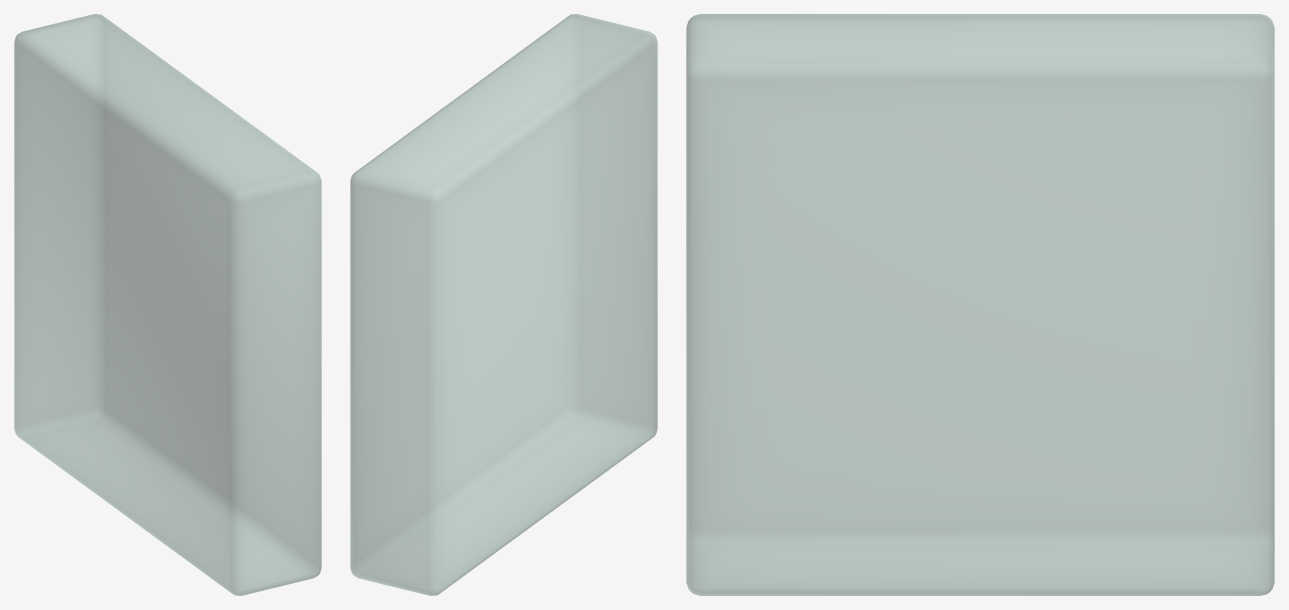
Rendered from frostedglass.glb.
The picture shows the model from 3 angles, left to right: view 1: azimuth 30°, elevation 25°; view 2: azimuth 150°, elevation 25°; view 3: azimuth 270°, elevation 25°; orthographic projection. The views are drawn at different scales.
Parts seen in each view (by area): view 1: Frosted_Glass; view 2: Frosted_Glass; view 3: Frosted_Glass.
Part boxes in pixels (x1,y1,x2,y2): Frosted_Glass: [14, 14, 321, 595]; Frosted_Glass: [350, 14, 657, 595]; Frosted_Glass: [686, 14, 1274, 595].
Size of the model in its own units: 0.9106 by 3.9 by 3.9.
1 material, 1 textured.
